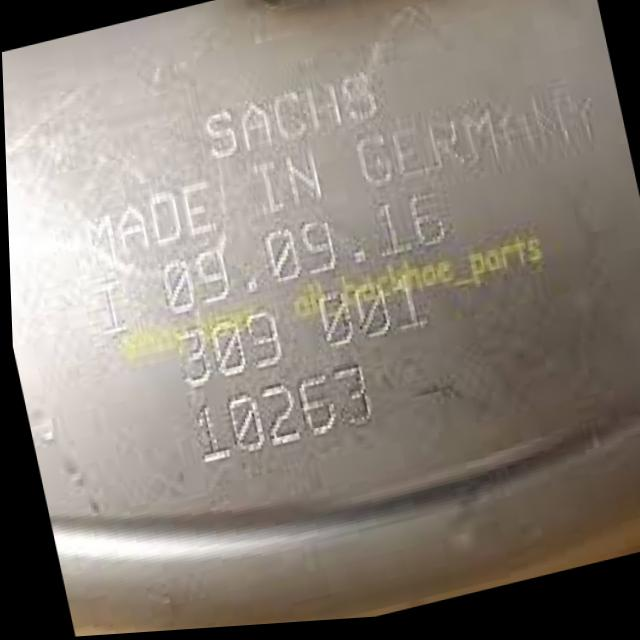ocr: (36, 15, 640, 505)
